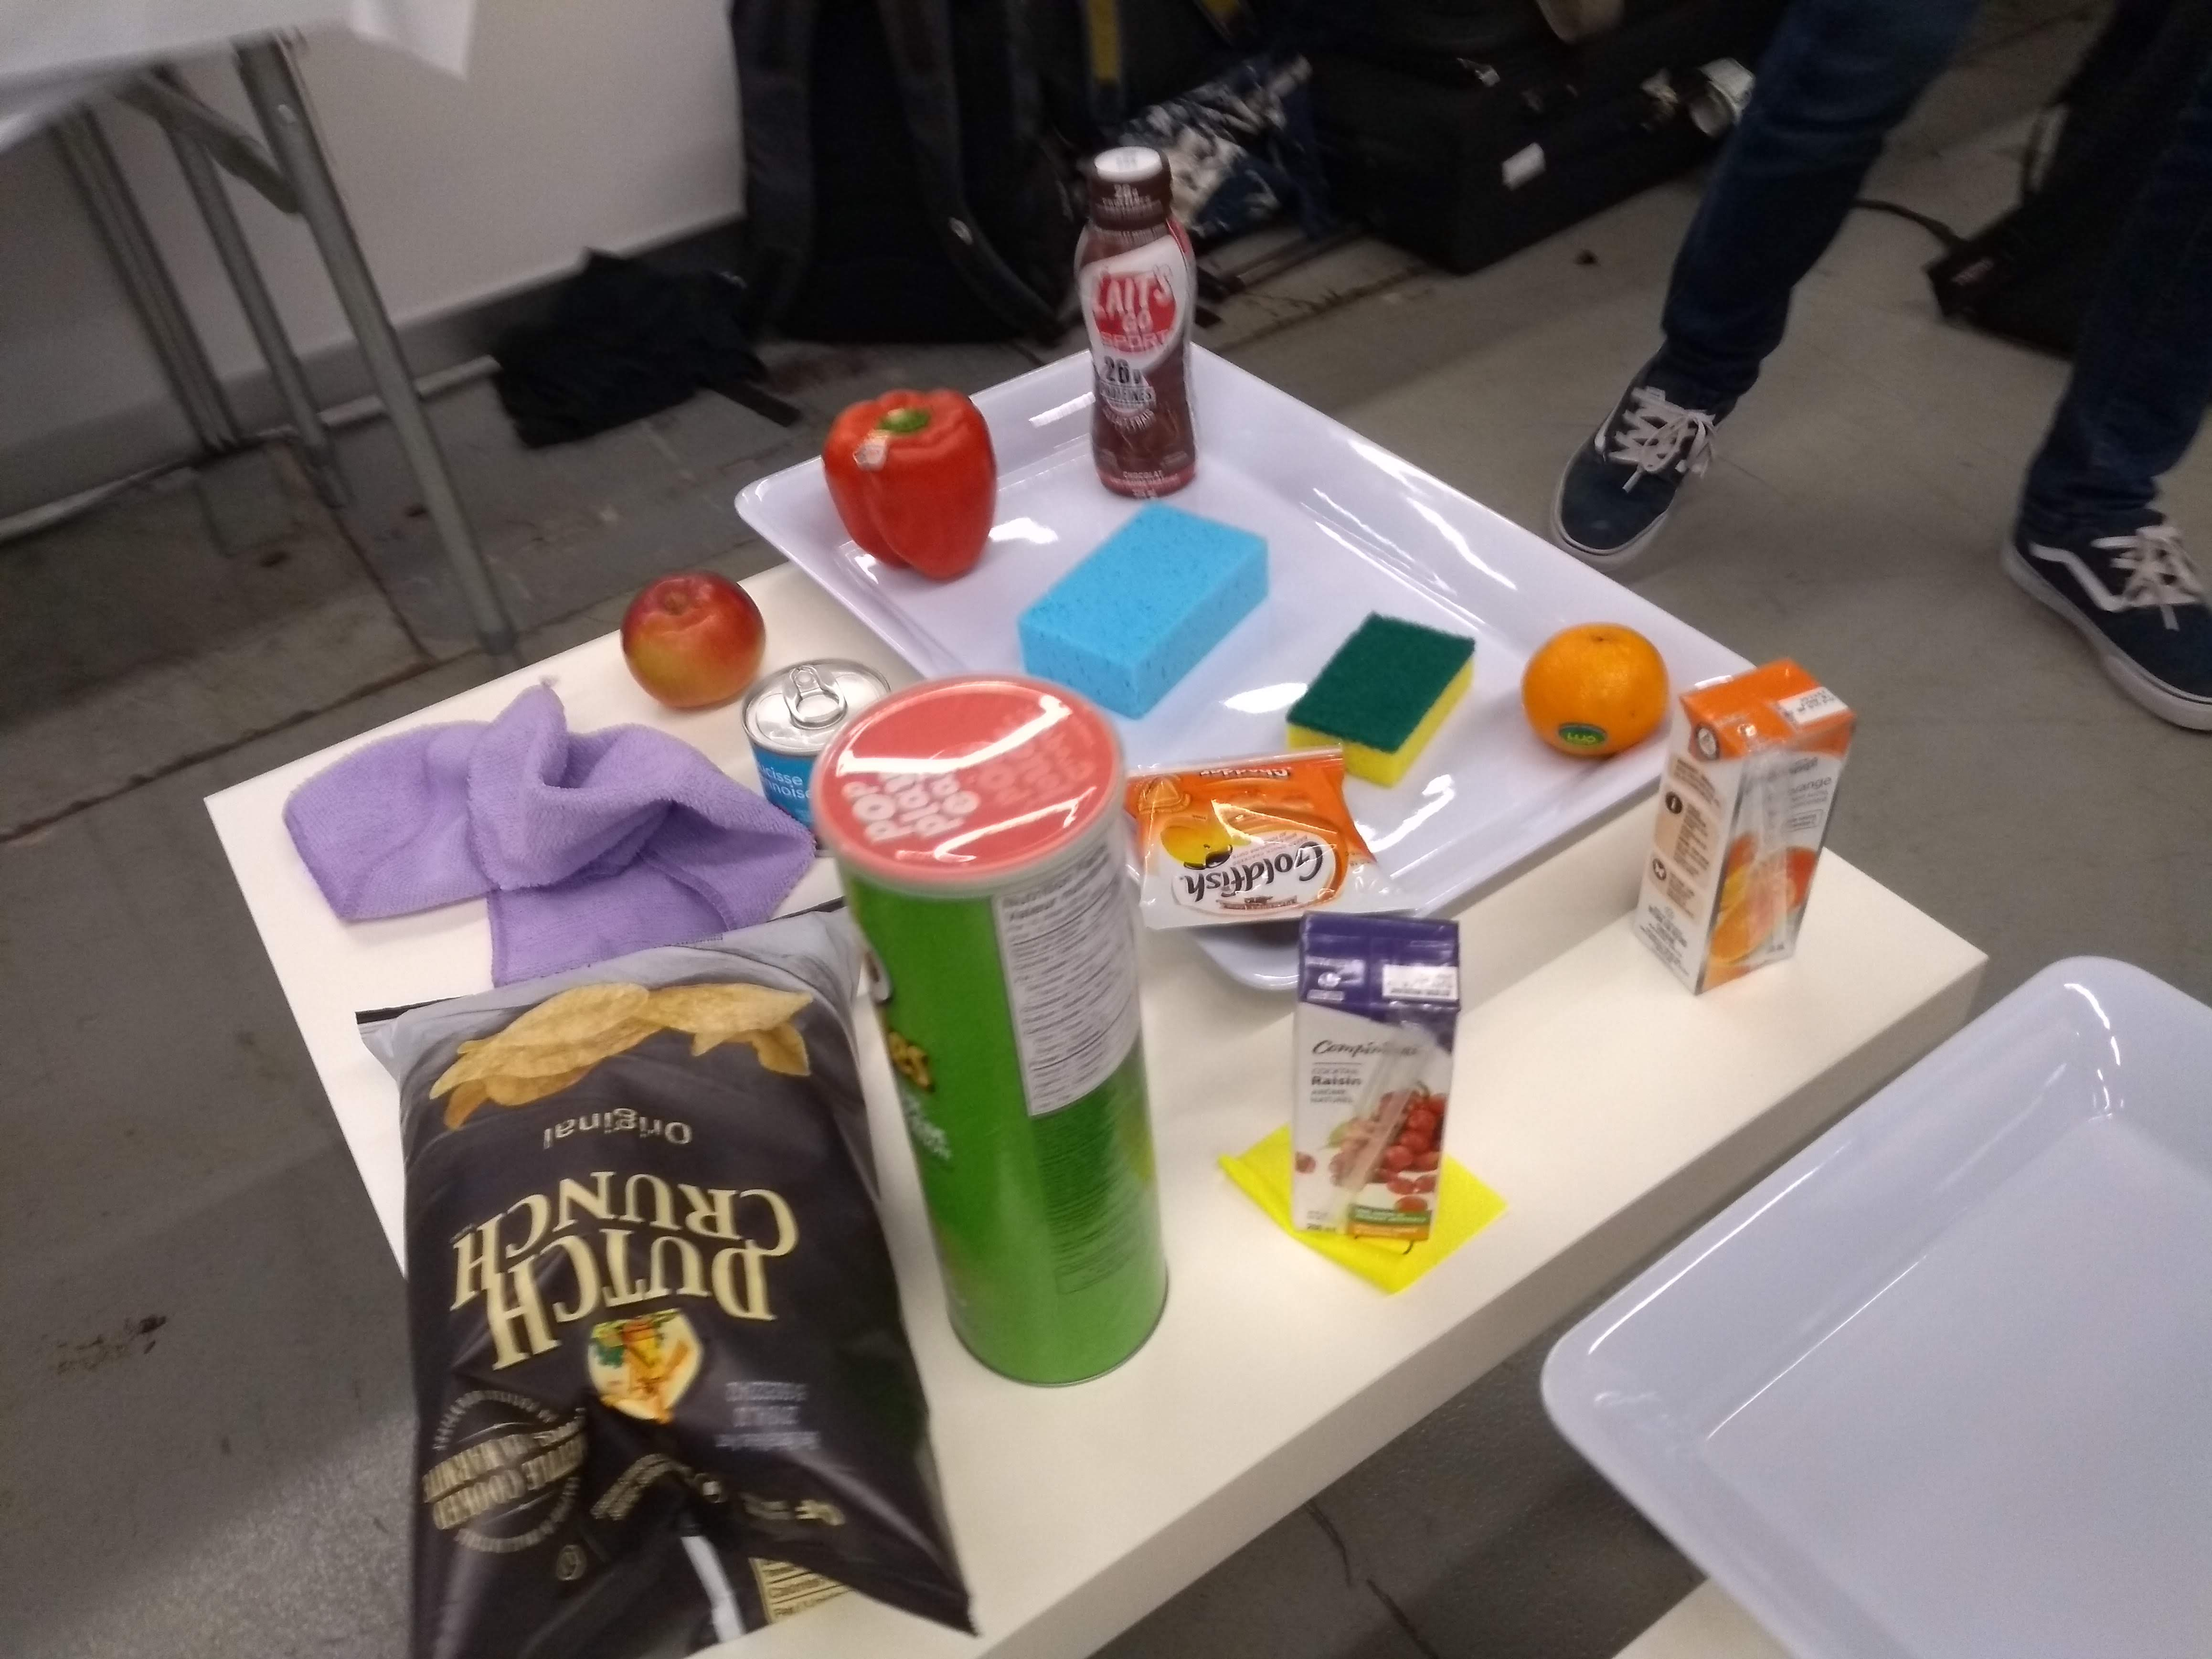apple: (613, 565, 773, 716)
chocolate_drink: (1059, 138, 1226, 507)
crackers: (1113, 751, 1413, 945)
grape_juice: (1268, 899, 1479, 1249)
orange: (1515, 615, 1677, 769)
orange_juice: (1616, 648, 1865, 1014)
paprika: (819, 376, 1008, 592)
potato_chips: (338, 889, 984, 1659)
pringles: (798, 659, 1179, 1401)
scrubby: (1280, 608, 1482, 788)
sponge_opl: (1012, 498, 1280, 732)
